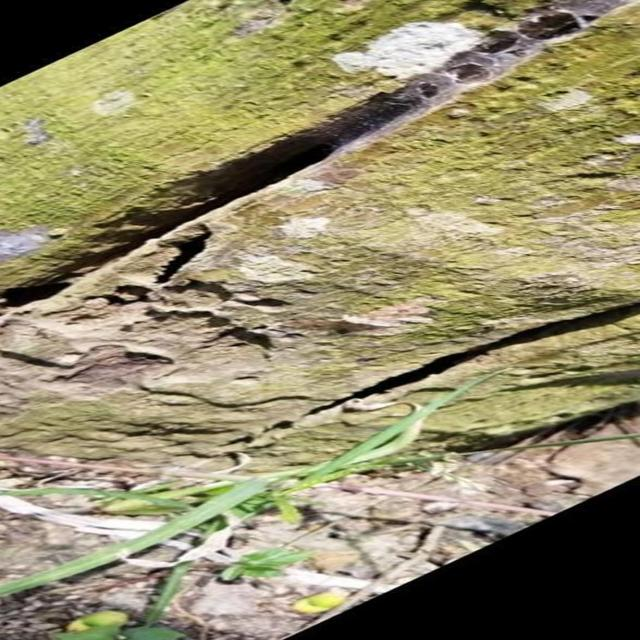Stem_Cracking: (90, 76, 570, 394)
